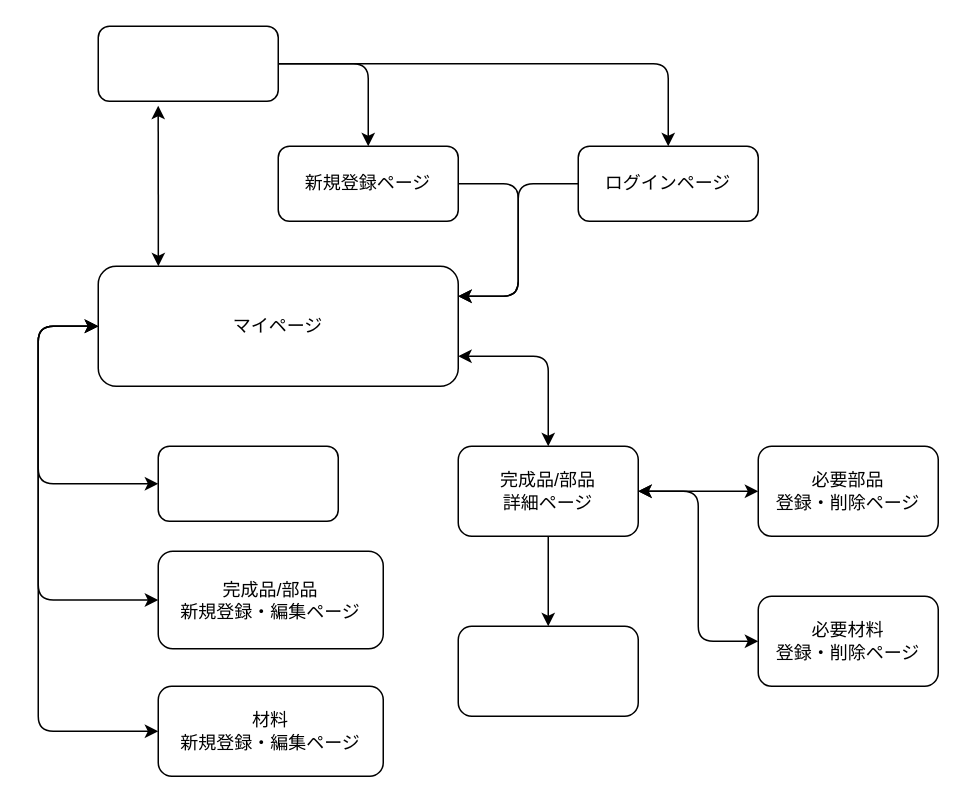
Image size: 965x803. Some labels were removed from this diagram. The shapes that lost their labels are listed below. From the top down, each one's box as (x1, y1, x2, y2) in pixels, then its label:
(97, 25, 278, 101): Topページ
(157, 445, 338, 521): ユーザー情報 編集ページ
(457, 625, 638, 716): 材料計算結果 表示ページ
